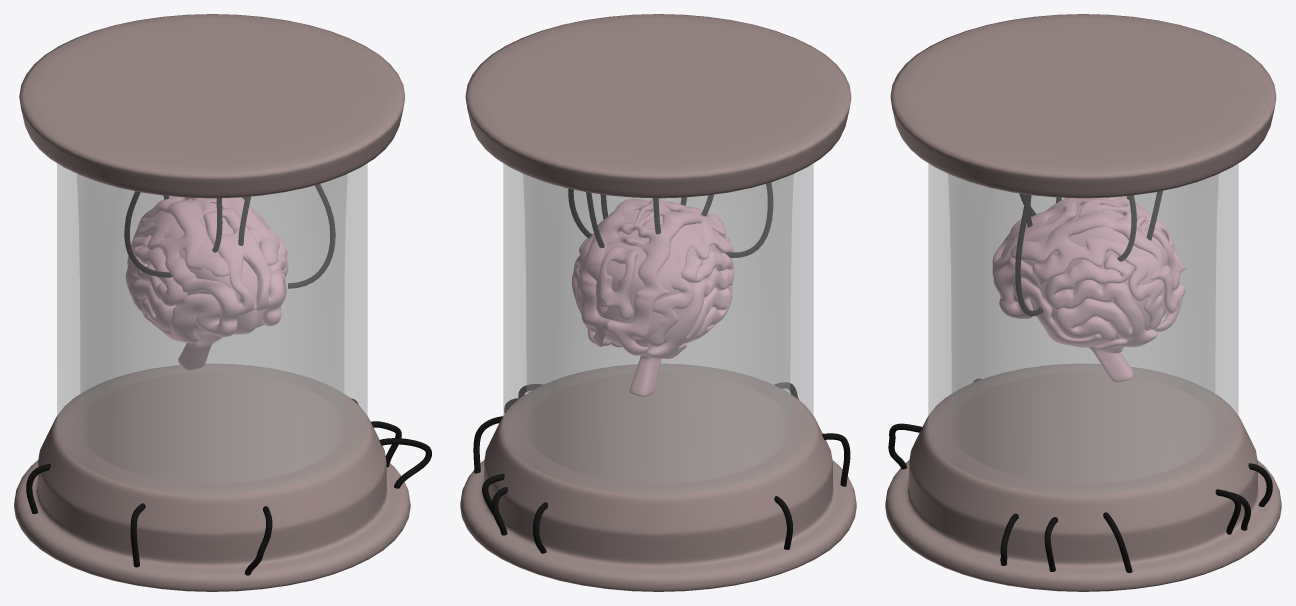
The model's file is brain_jar-DmFrIFAh.glb.
The picture shows the model from 3 angles, left to right: view 1: azimuth 30°, elevation 25°; view 2: azimuth 150°, elevation 25°; view 3: azimuth 270°, elevation 25°; orthographic projection.
Visible parts, largest first — view 1: Cylinder, Circle, Circle.001, cerveau, Cube.001, BezierCurve.001, BezierCurve; view 2: Cylinder, Circle, Circle.001, cerveau, Cube.001, BezierCurve.001, BezierCurve; view 3: Cylinder, Circle, Circle.001, cerveau, Cube.001, BezierCurve.001, BezierCurve.
Part boxes in pixels (bbox=[...]): Cylinder: bbox=[57, 163, 367, 494]; Circle: bbox=[14, 364, 410, 591]; Circle.001: bbox=[19, 14, 405, 198]; cerveau: bbox=[125, 196, 288, 343]; Cube.001: bbox=[136, 198, 263, 370]; BezierCurve.001: bbox=[26, 398, 431, 575]; BezierCurve: bbox=[124, 184, 335, 288]; Cylinder: bbox=[503, 163, 813, 494]; Circle: bbox=[460, 364, 856, 591]; Circle.001: bbox=[465, 14, 851, 198]; cerveau: bbox=[572, 198, 734, 359]; Cube.001: bbox=[579, 209, 725, 396]; BezierCurve.001: bbox=[473, 382, 850, 553]; BezierCurve: bbox=[568, 182, 773, 257]; Cylinder: bbox=[928, 163, 1238, 494]; Circle: bbox=[885, 364, 1281, 591]; Circle.001: bbox=[890, 14, 1276, 198]; cerveau: bbox=[992, 196, 1186, 353]; Cube.001: bbox=[999, 199, 1168, 382]; BezierCurve.001: bbox=[888, 379, 1272, 572]; BezierCurve: bbox=[1015, 191, 1162, 316].
Size of the model in its own units: 10.27 by 11.71 by 10.05.
